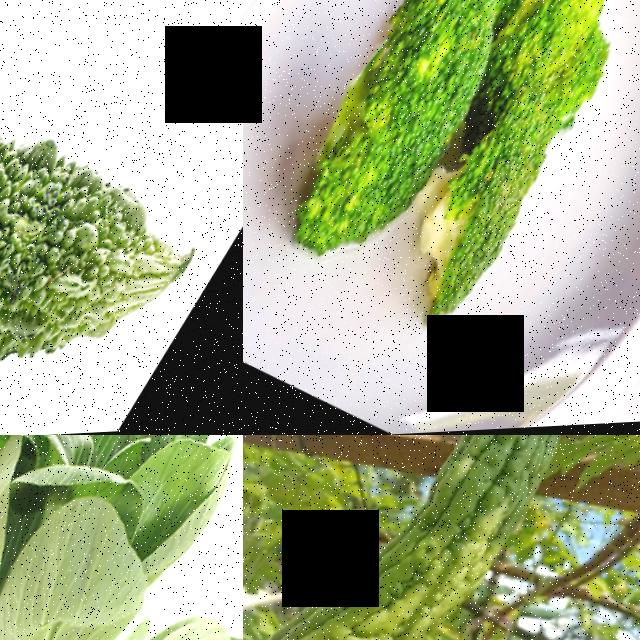bitter gourd: (0, 0, 243, 435), (243, 435, 629, 640)
bok choy: (0, 435, 236, 640), (0, 584, 243, 640)
broccoli: (271, 0, 539, 278), (366, 90, 607, 380), (491, 0, 640, 132)
